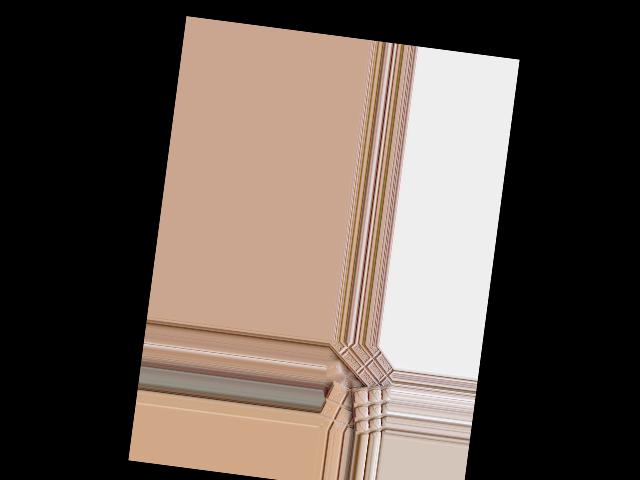chocolate: (321, 381, 367, 435)
